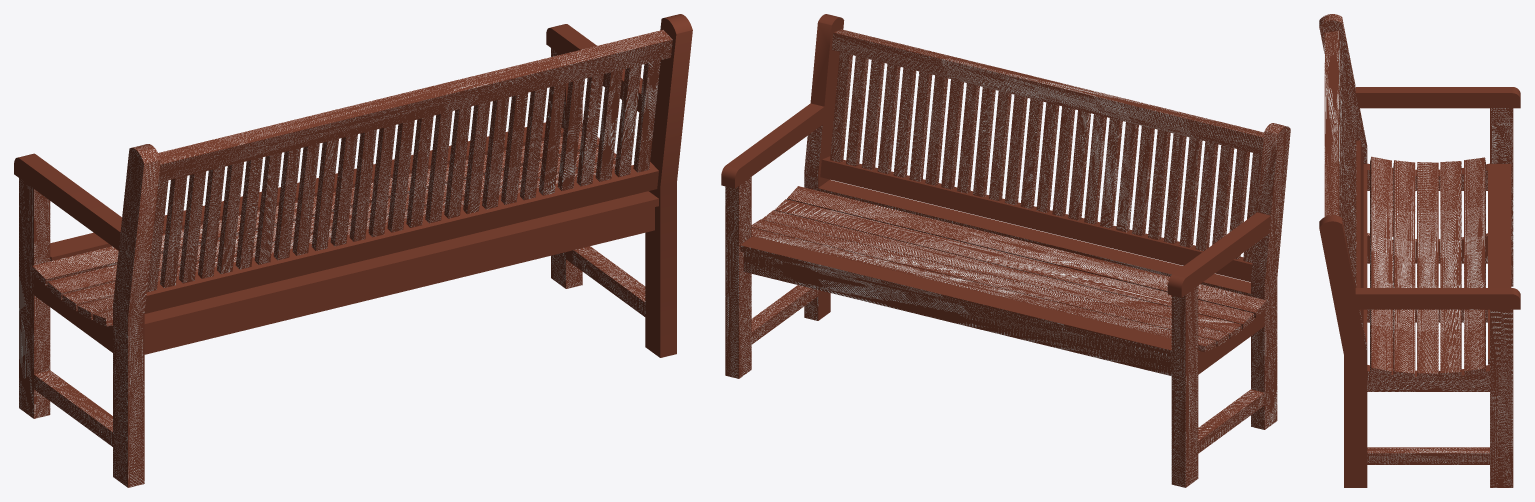
The picture shows the model from 3 angles, left to right: view 1: azimuth 30°, elevation 25°; view 2: azimuth 150°, elevation 25°; view 3: azimuth 270°, elevation 25°; orthographic projection. The views are drawn at different scales.
Visible parts, largest first — view 1: mesh1_mesh1-geometry; view 2: mesh1_mesh1-geometry; view 3: mesh1_mesh1-geometry.
Boxes of the visible parts, bbox=[...] form: mesh1_mesh1-geometry: bbox=[14, 14, 692, 487]; mesh1_mesh1-geometry: bbox=[721, 14, 1290, 487]; mesh1_mesh1-geometry: bbox=[1319, 14, 1520, 487].
Bounding box in the file's own units: 0.8138 × 0.4794 × 0.3285.
